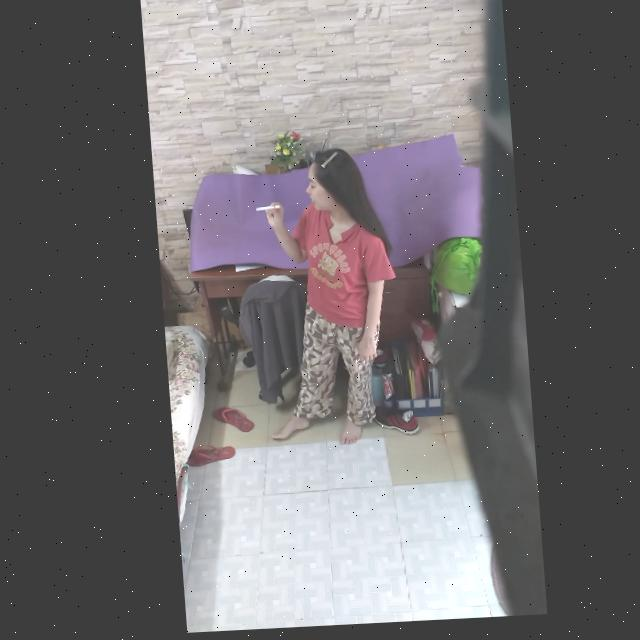cigarette: (253, 208, 277, 214)
